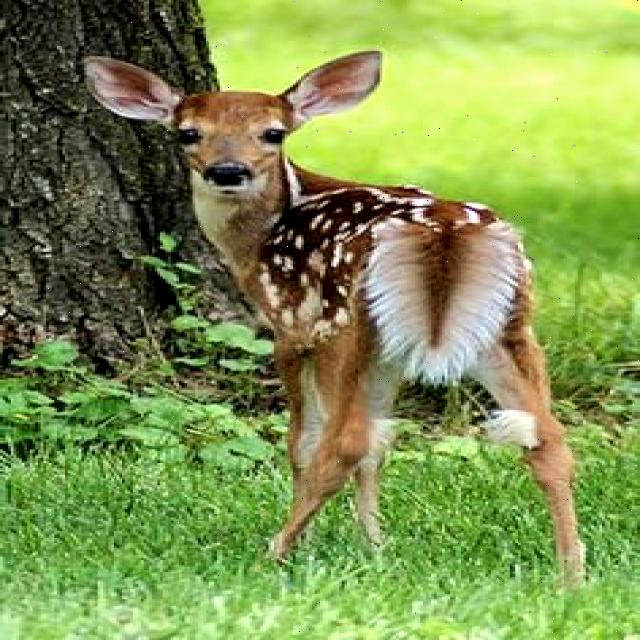deer: (72, 45, 403, 268)
